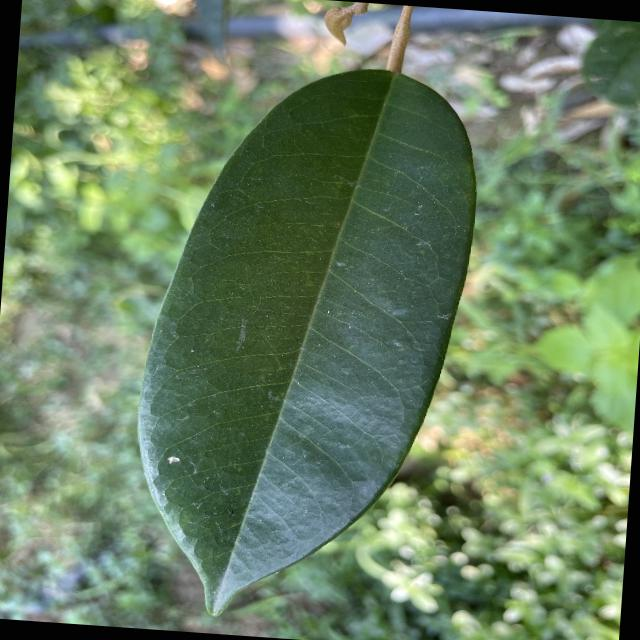No Disease: (109, 40, 496, 639)
